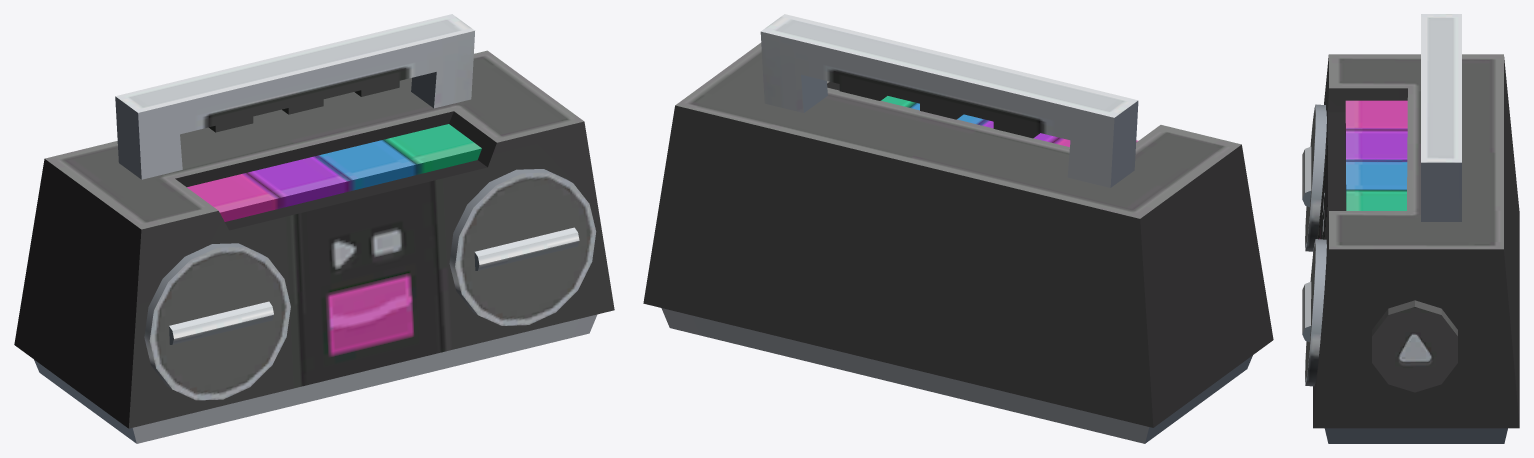
File: BoomBox.fbx
The picture shows the model from 3 angles, left to right: view 1: azimuth 30°, elevation 25°; view 2: azimuth 150°, elevation 25°; view 3: azimuth 270°, elevation 25°; orthographic projection. The views are drawn at different scales.
Visible parts, largest first — view 1: BoomBox; view 2: BoomBox; view 3: BoomBox.
Boxes of the visible parts, x1,y1,x2,y2 form: BoomBox: (14, 14, 614, 443); BoomBox: (643, 14, 1273, 443); BoomBox: (1302, 14, 1519, 443).
Size of the model in its own units: 103 by 55.21 by 42.94.
